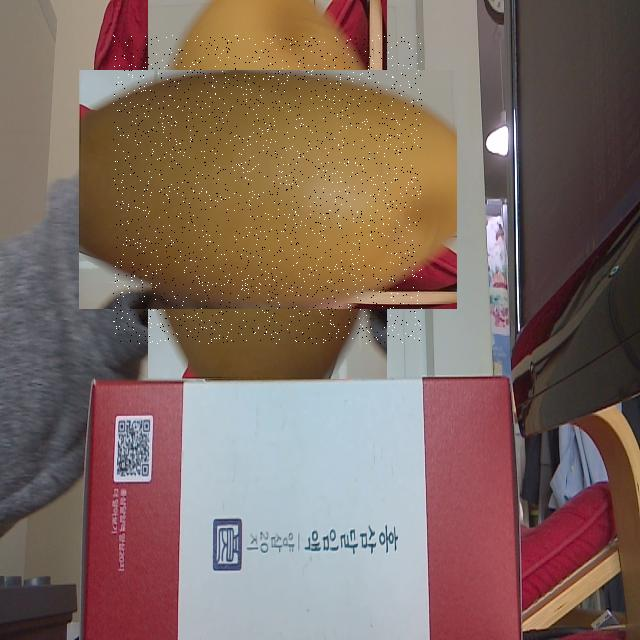pear: (113, 35, 422, 344)
